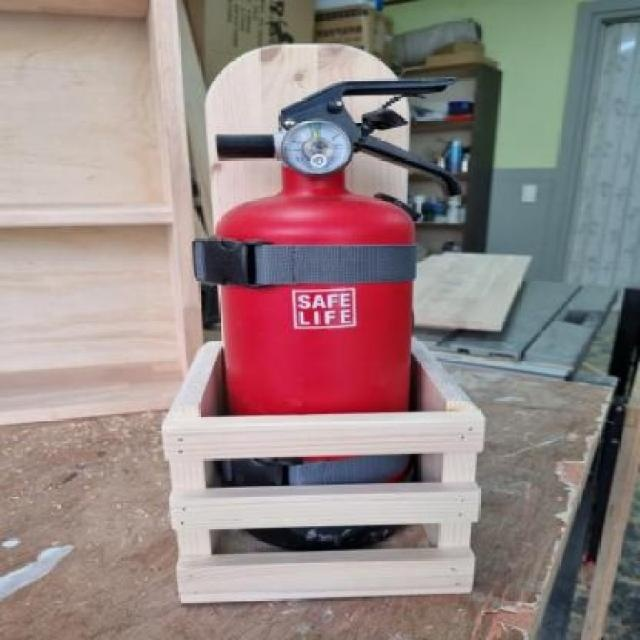fire extinguisher: (193, 75, 462, 552)
